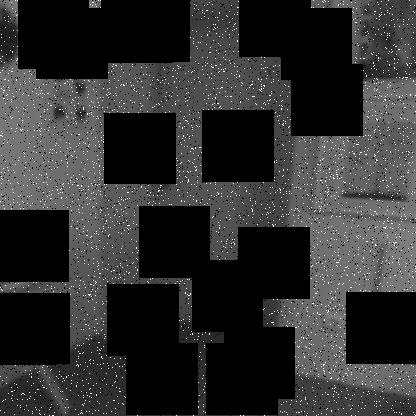Porte: (98, 0, 334, 376)
